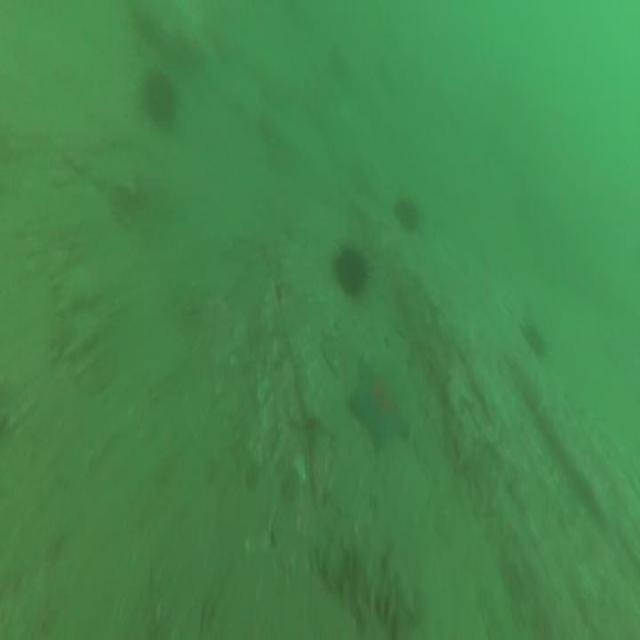echinus: (142, 71, 179, 127), (335, 250, 368, 294), (522, 322, 546, 358), (396, 198, 418, 230)
starfish: (352, 367, 412, 452)
